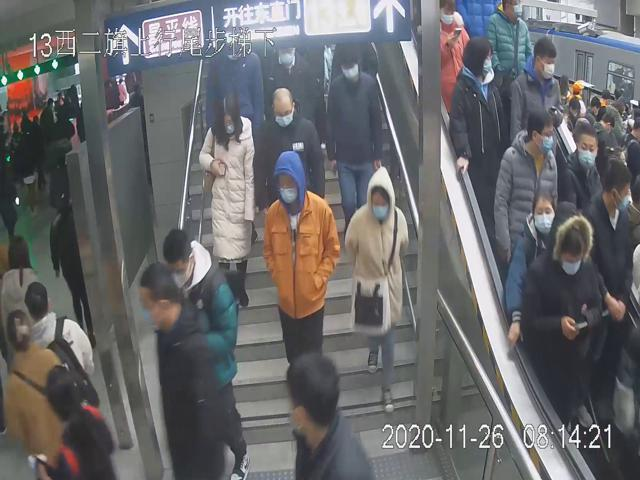person: (163, 229, 251, 480), (260, 151, 341, 368), (343, 162, 408, 416), (195, 92, 255, 315), (326, 43, 384, 240), (493, 109, 556, 269), (253, 87, 327, 222), (448, 35, 506, 200)
